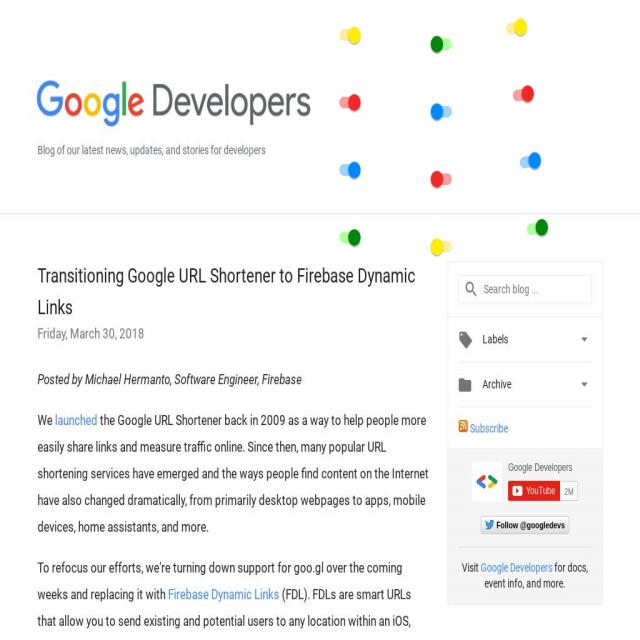toggle: (337, 20, 362, 48), (504, 15, 529, 40), (428, 99, 453, 121), (428, 236, 453, 258), (524, 216, 549, 238), (516, 150, 542, 171), (338, 91, 362, 113), (429, 33, 454, 54), (510, 83, 535, 104), (429, 168, 453, 189), (337, 228, 361, 246), (338, 162, 362, 178)
